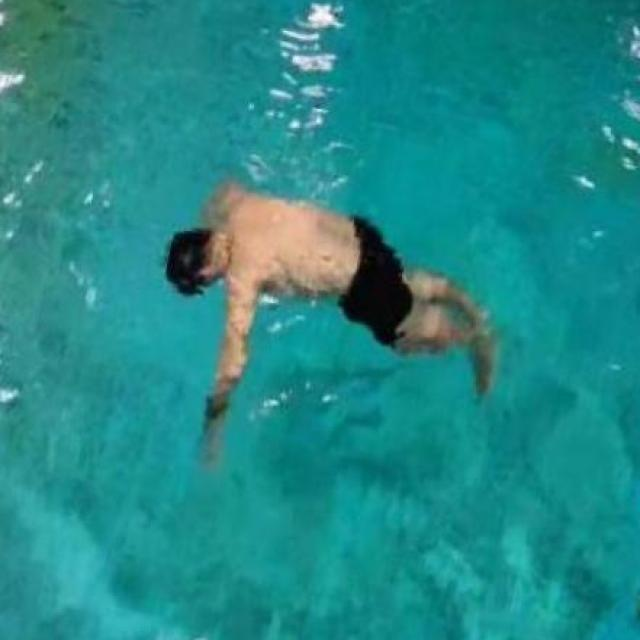Drowning: (160, 181, 496, 413)
